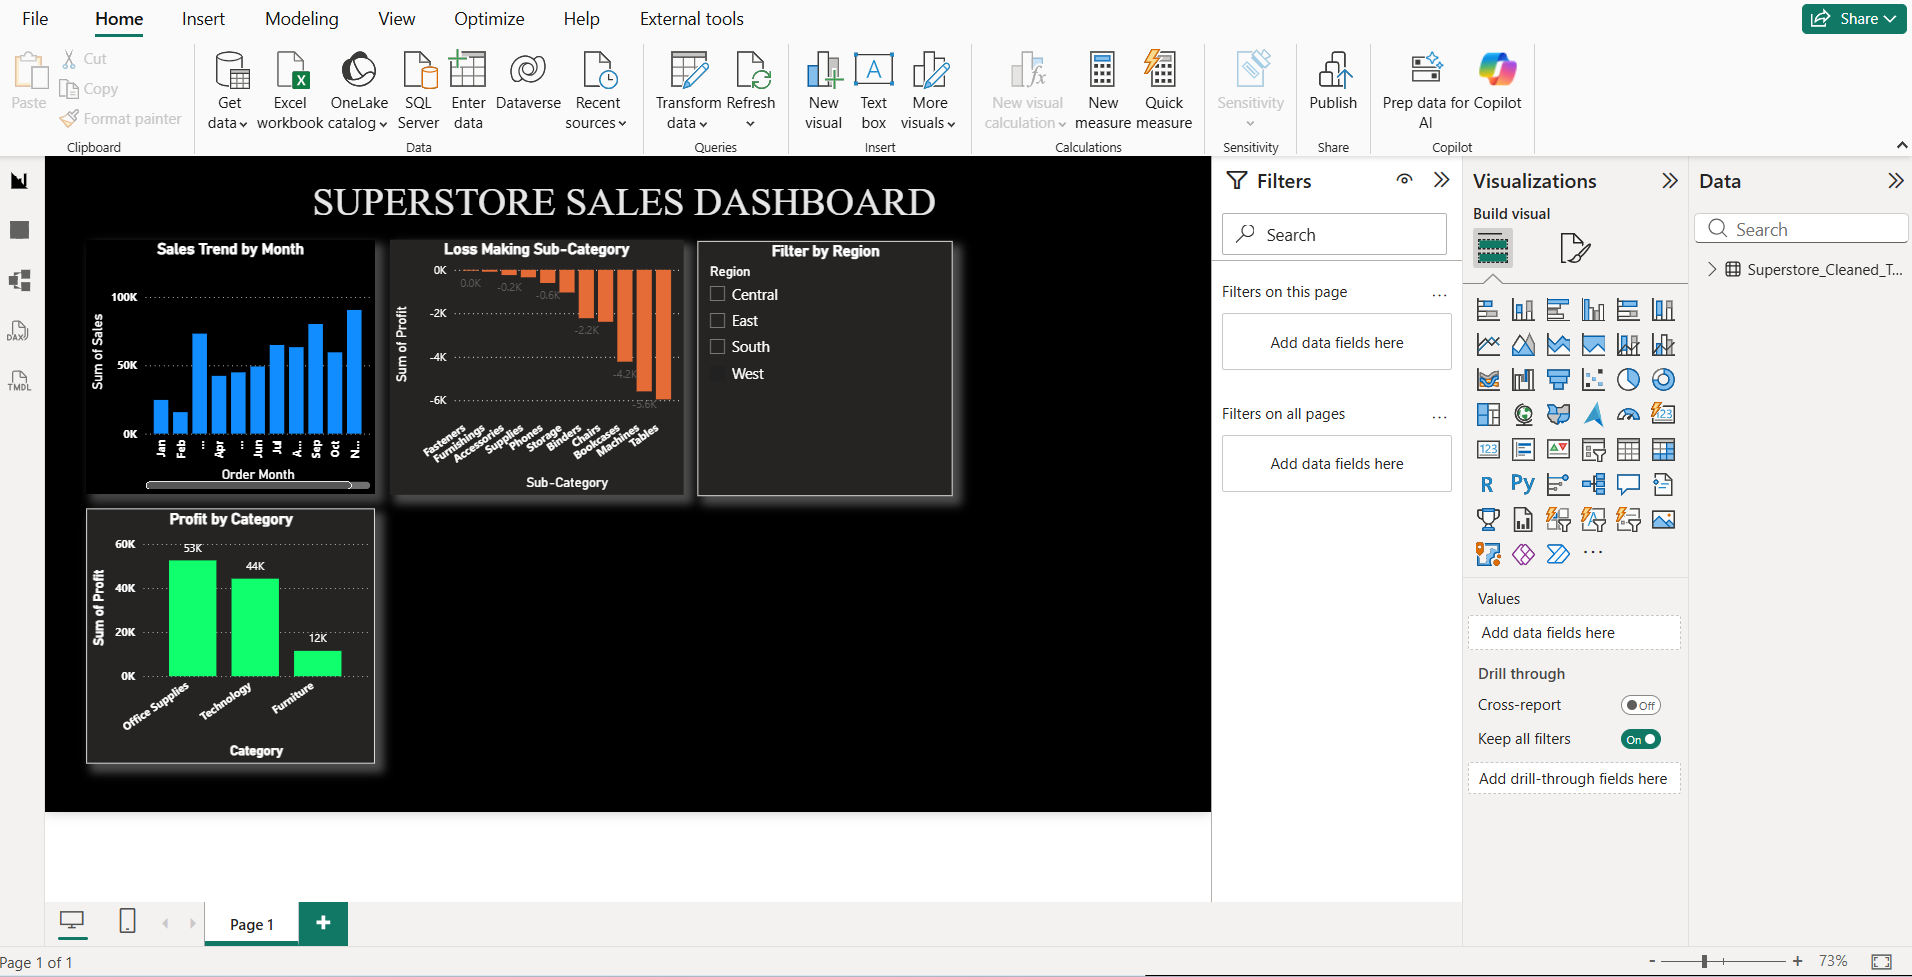

This screenshot's page, from the dashboard's own definition file:
{"tool":"powerbi","page":{"name":"Page 1","canvas":[1280,720],"ordinal":0},"visuals":[{"type":"clusteredColumnChart","title":"Sales Trend by Month","fields":{"Y":["Sum(Superstore_Cleaned_Tesmy - Orders.Sales)"],"Category":["Superstore_Cleaned_Tesmy - Orders.Order Month"]},"box":[45.1,91.5,316.9,278.9],"z":0},{"type":"clusteredColumnChart","title":"Profit by Category","fields":{"Category":["Superstore_Cleaned_Tesmy - Orders.Category"],"Y":["Sum(Superstore_Cleaned_Tesmy - Orders.Profit)"]},"box":[45.1,387.3,316.9,280.3],"z":1},{"type":"clusteredColumnChart","title":"Loss Making Sub-Category","fields":{"Category":["Superstore_Cleaned_Tesmy - Orders.Sub-Category"],"Y":["Sum(Superstore_Cleaned_Tesmy - Orders.Profit)"]},"box":[378.9,91.5,322.5,280.3],"z":2},{"type":"slicer","title":"Filter by Region","fields":{"Values":["Superstore_Cleaned_Tesmy - Orders.Region"]},"box":[716.9,93,280.3,280.3],"z":3},{"type":"textbox","box":[31,21.1,1208.5,60.6],"z":4}]}

Visuals, with their boxes on the page's 1280x720 design canvas (x1, y1, x2, y2). These are canvas units, not pixel positions in the 1912x977 screenshot, which may show the page scaled, cropped or inside an application window:
"Sales Trend by Month" clusteredColumnChart: 45,92,362,370
"Profit by Category" clusteredColumnChart: 45,387,362,668
"Loss Making Sub-Category" clusteredColumnChart: 379,92,701,372
"Filter by Region" slicer: 717,93,997,373
textbox: 31,21,1240,82
